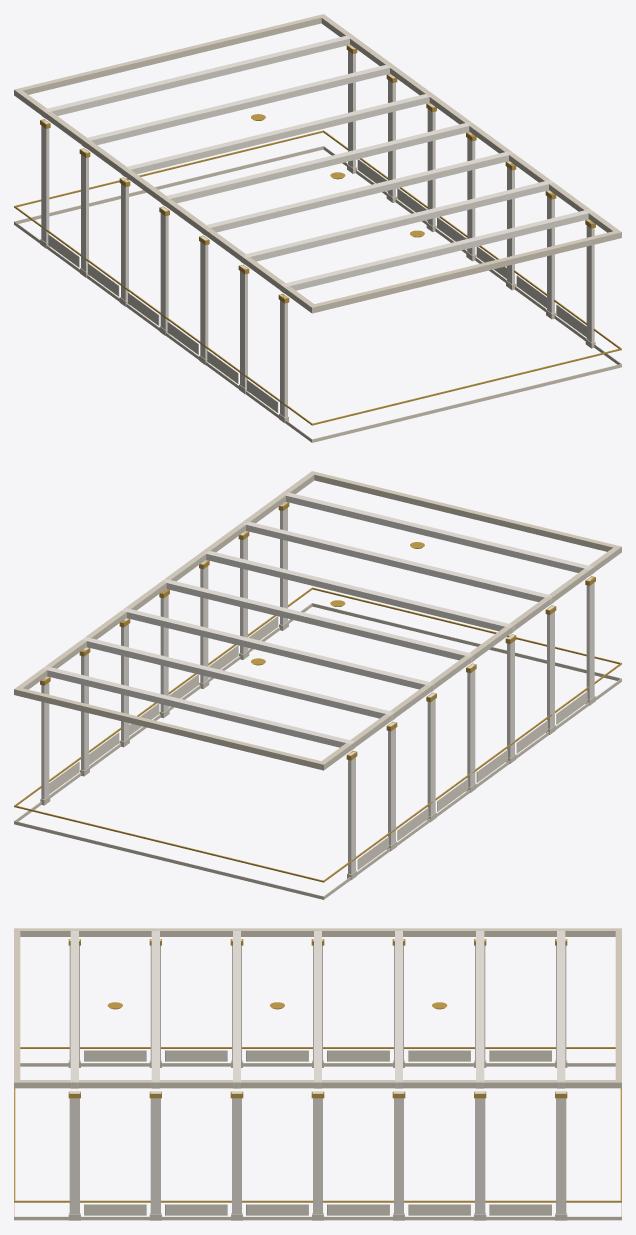
File: hall.glb
3 renders of one model, top to bottom at view 1: azimuth 30°, elevation 25°; view 2: azimuth 150°, elevation 25°; view 3: azimuth 270°, elevation 25°, orthographic.
Visible parts, largest first — view 1: stone36, white86, white85, white80, stone76, white83, white84, white81, white82, stone77, stone37, stone79 (+21 smaller); view 2: stone36, white81, white83, white80, white82, white84, white85, white86, stone76, stone37, stone77, stone39 (+21 smaller); view 3: stone76, stone36, stone69, stone29, gold68, white85, white86, white81, white80, white40, white44, white60 (+22 smaller).
Boxes of the visible parts, x1,y1,x2,y2 form: stone36: (14,89,317,313); white86: (280,209,592,293); white85: (241,180,553,264); white80: (42,35,352,118); stone76: (320,14,621,238); white83: (161,122,471,205); white84: (201,151,513,235); white81: (81,64,393,147); white82: (121,94,430,176); stone77: (311,230,621,312); stone37: (14,14,325,96); stone79: (312,364,621,442); stone36: (318,546,621,770); white81: (82,637,394,721); white83: (162,578,474,662); white80: (42,666,355,750); white82: (122,608,434,692); white84: (205,550,514,633); white85: (241,521,553,604); white86: (282,492,593,575); stone76: (14,471,316,695); stone37: (14,687,324,770); stone77: (310,471,621,551); stone39: (14,821,323,899); stone76: (14,1080,621,1088); stone36: (14,928,621,936); stone69: (14,1216,621,1220); stone29: (20,1063,615,1066); gold68: (14,1200,621,1202); white85: (151,928,159,1088); white86: (70,928,78,1088); white81: (476,928,484,1088); white80: (557,928,565,1088); white40: (556,1092,566,1214); white44: (475,1092,485,1214); white60: (150,1092,160,1214).
Size of the model in its own units: 18.08 by 7.5 by 30.
